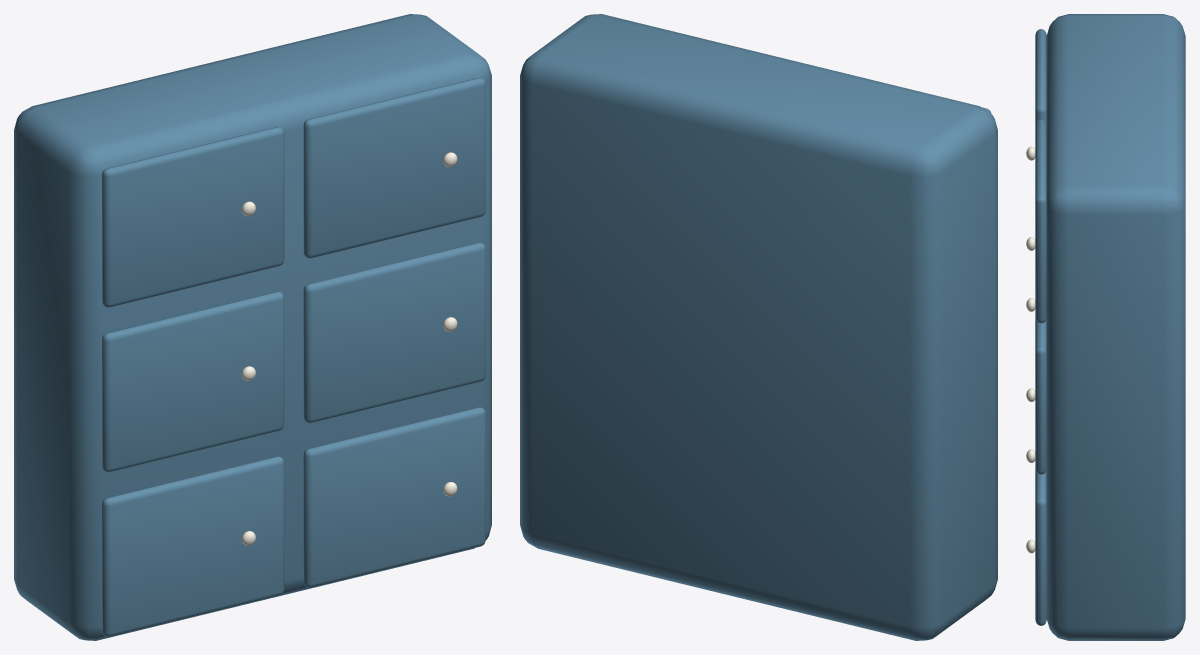
File: locker-bank.glb
3 renders of one model, left to right at view 1: azimuth 30°, elevation 25°; view 2: azimuth 150°, elevation 25°; view 3: azimuth 270°, elevation 25°, orthographic. The views are drawn at different scales.
Visible parts, largest first — view 1: carcass.001, door.003, door.002, door.004, door.005, door.007, door.006; view 2: carcass.001; view 3: carcass.001, door.007, door.003, door.005, door.006.
Part boxes in pixels (x1,y1,x2,y2): carcass.001: [14, 14, 491, 640]; door.003: [303, 407, 485, 587]; door.002: [102, 456, 284, 636]; door.004: [102, 291, 284, 472]; door.005: [303, 242, 485, 422]; door.007: [303, 78, 485, 258]; door.006: [102, 127, 284, 307]; carcass.001: [520, 14, 997, 640]; carcass.001: [1046, 14, 1185, 640]; door.007: [1035, 119, 1046, 323]; door.003: [1035, 469, 1046, 625]; door.005: [1035, 318, 1046, 474]; door.006: [1035, 29, 1046, 124].
Size of the model in its own units: 1.6 by 1.8 by 0.573.
